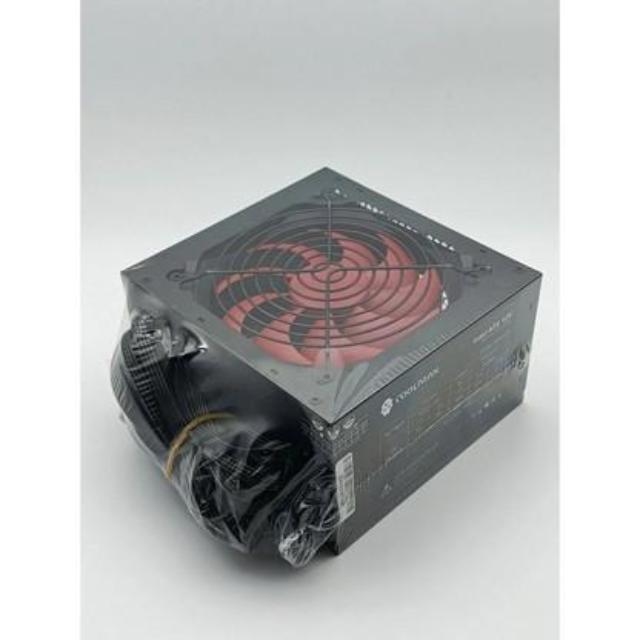PSU: (109, 158, 544, 578)
